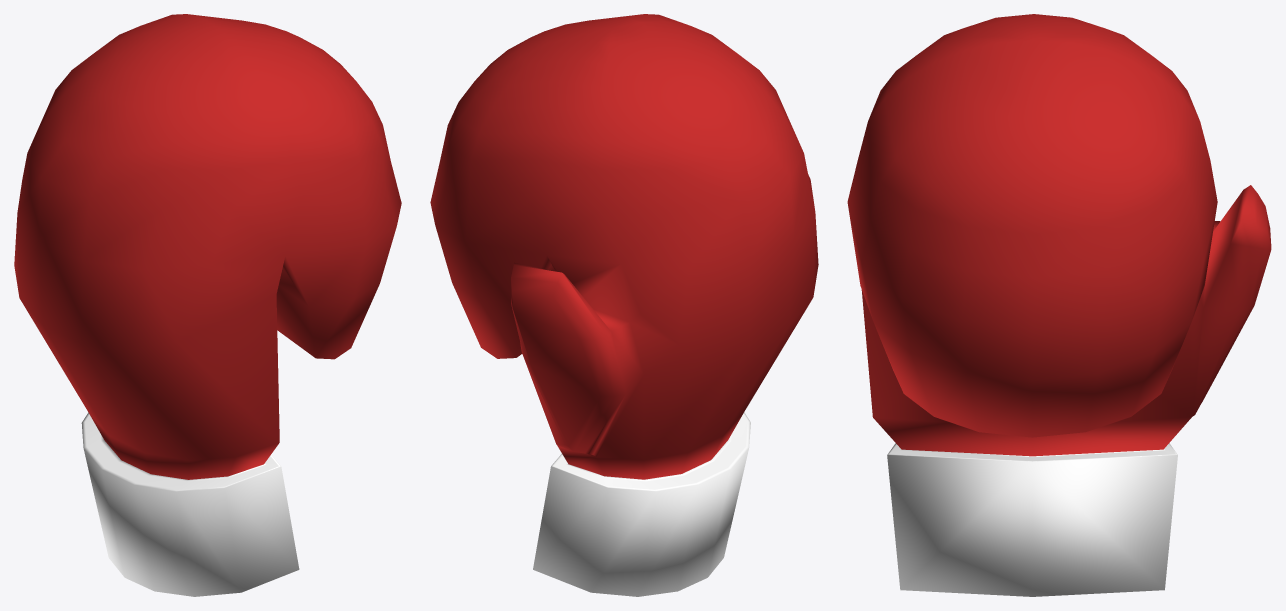
The model's file is boxing_glove.fbx.
The picture shows the model from 3 angles, left to right: view 1: azimuth 30°, elevation 25°; view 2: azimuth 150°, elevation 25°; view 3: azimuth 270°, elevation 25°; orthographic projection. The views are drawn at different scales.
Parts seen in each view (by area): view 1: Sphere; view 2: Sphere; view 3: Sphere.
Part boxes in pixels (left/top/right/bottom): Sphere: left=14, top=14, right=401, bottom=596; Sphere: left=430, top=14, right=818, bottom=596; Sphere: left=847, top=14, right=1271, bottom=596.
Size of the model in its own units: 108 by 159 by 108.
